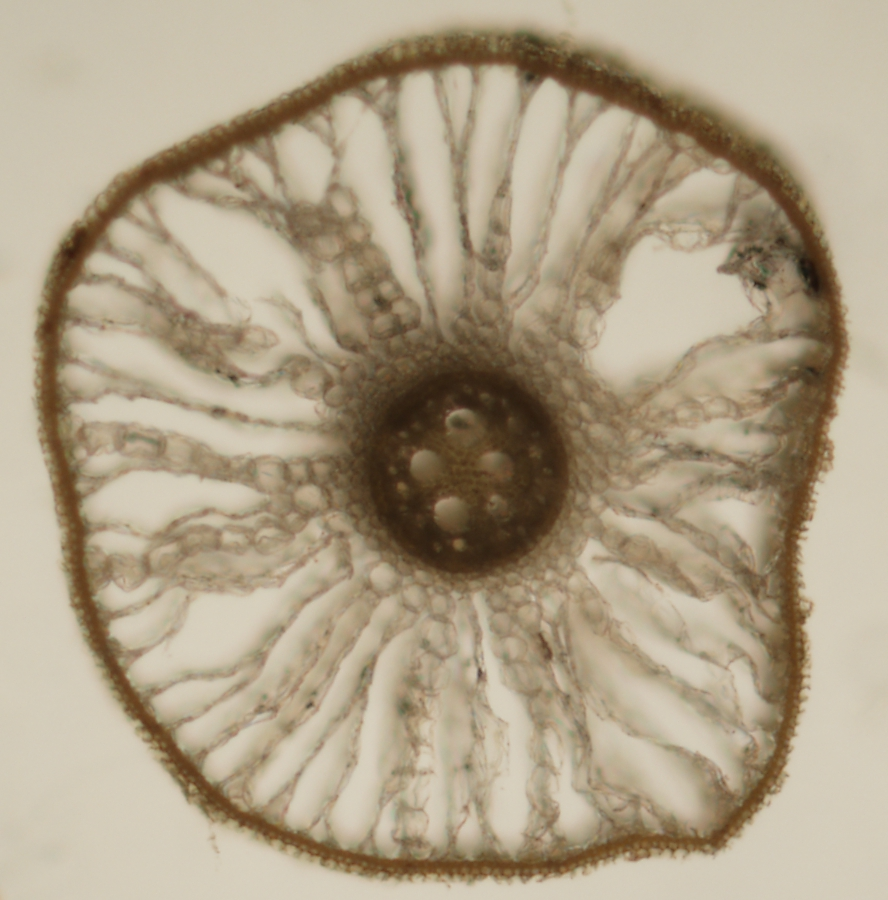lm: (445, 408, 488, 448), (434, 496, 474, 533), (475, 451, 515, 486), (409, 449, 446, 485), (486, 494, 515, 524)
